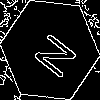N: (25, 25, 79, 81)
